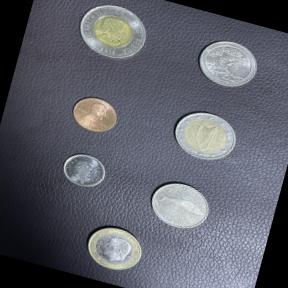1 Euro-B: (78, 218, 152, 280)
2 Euro-B: (164, 102, 248, 174)
Canada-10cent-B: (56, 147, 112, 194)
Canada-2Dollar-B: (66, 0, 156, 70)
Croatia-2Kune-B: (140, 172, 218, 238)
US-1cent-B: (62, 88, 126, 141)
US-25cent-B: (188, 32, 267, 98)
